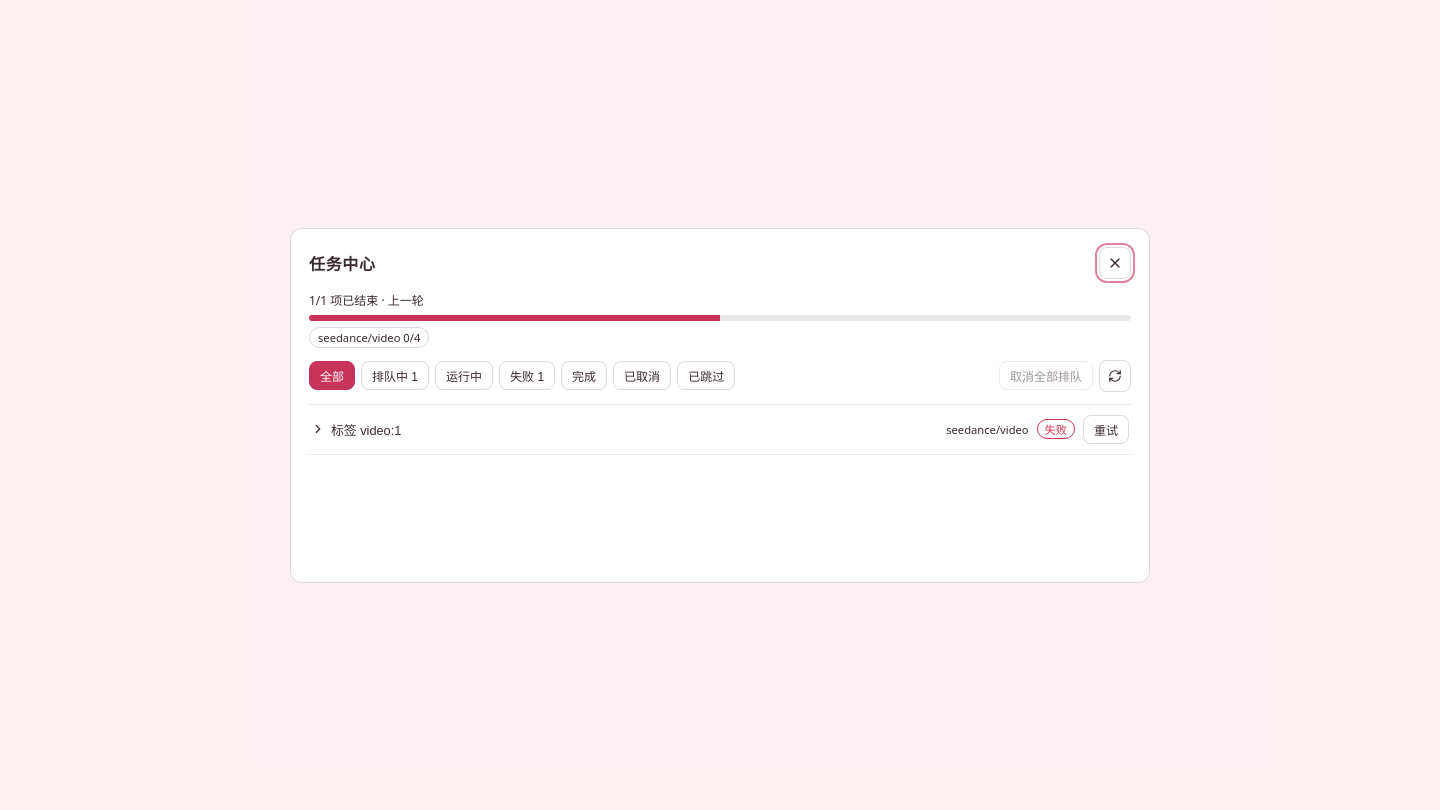
TaskCenter › shows why a retry was refused by admission
Click the button "重试" at (1106, 429), box [1083,414,1129,444]
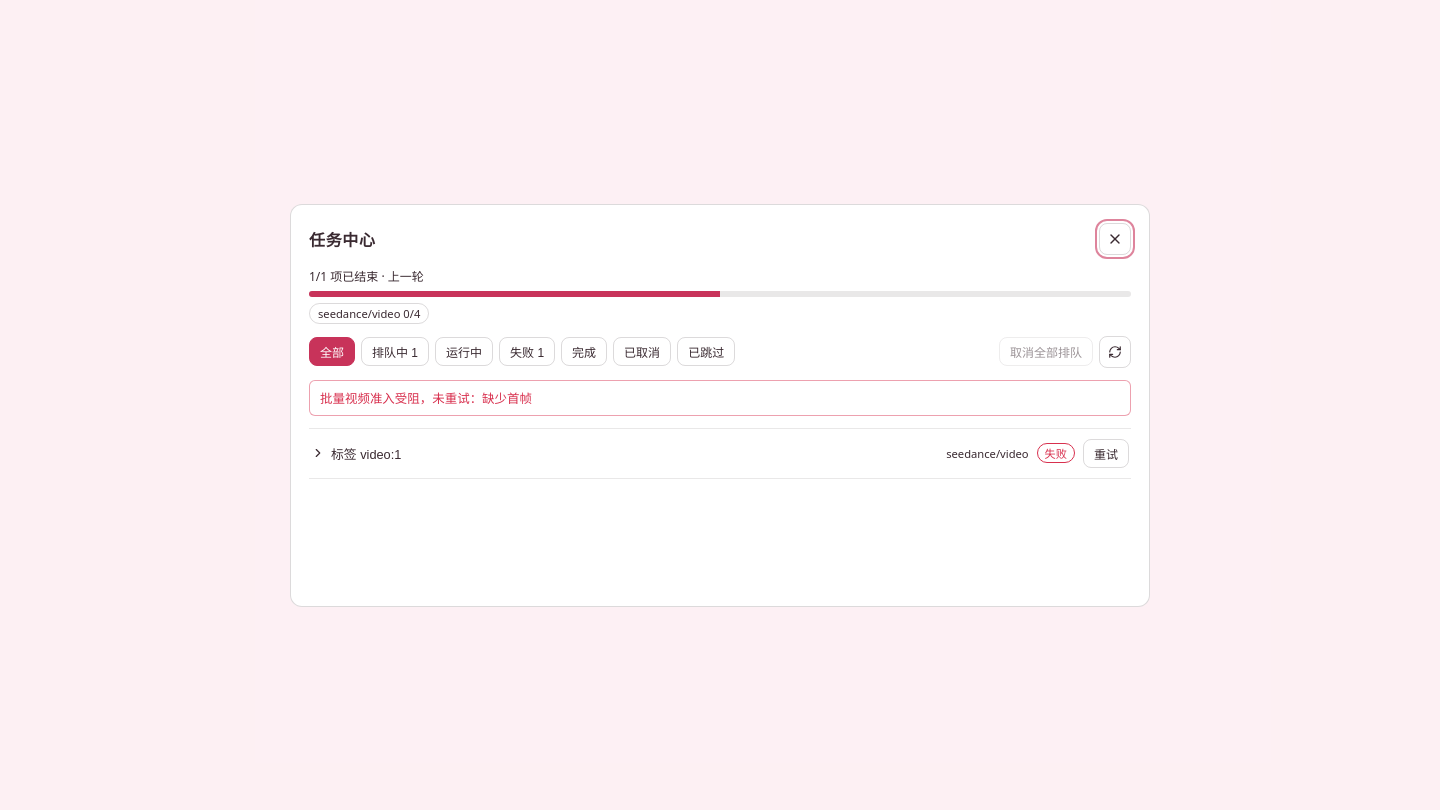
Expected: the message shows "缺少首帧", [320,390,532,406]
